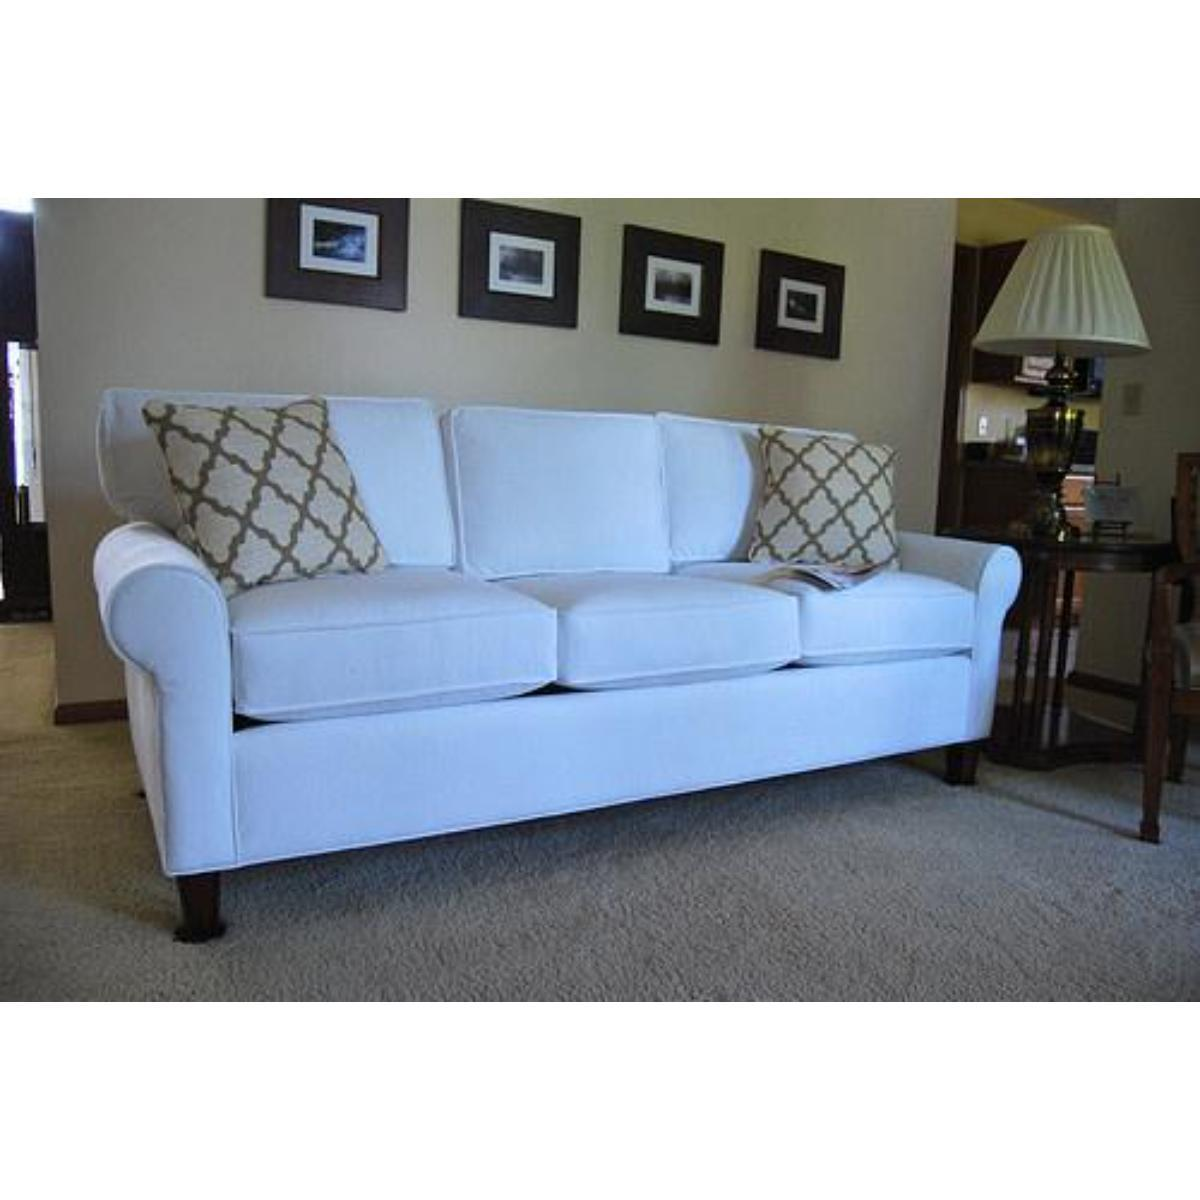Sofa: (92, 390, 1017, 937)
